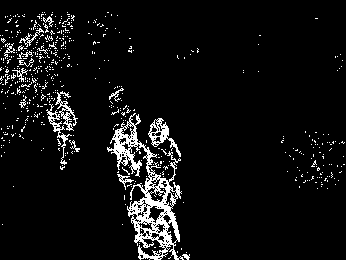person: (136, 182, 194, 260), (151, 119, 195, 195), (47, 88, 80, 169), (110, 124, 143, 193)
